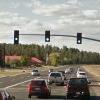Traffic light: (8, 23, 86, 59)
